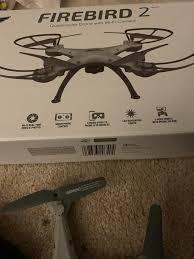drone: (0, 28, 194, 102)
